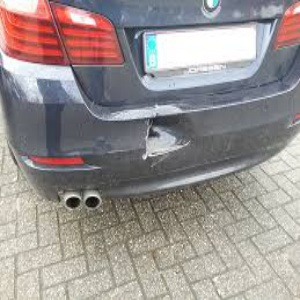bumper: (128, 103, 199, 166)
